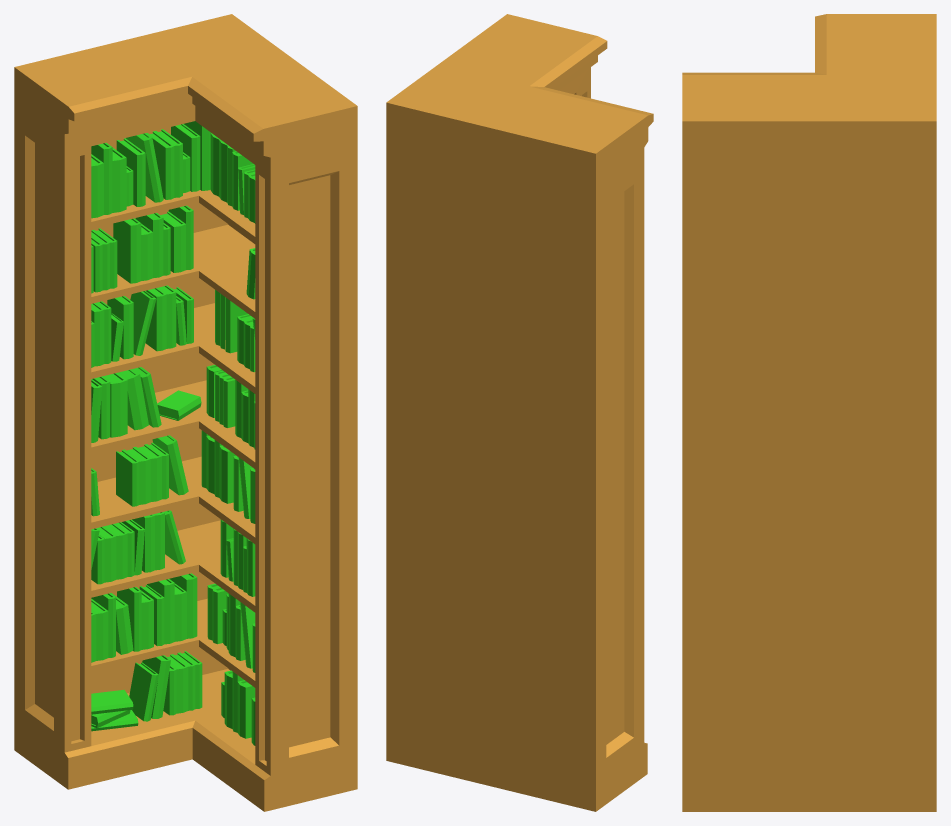
File: SM_Bookcase_Modular_Filled_Corner_Inner.fbx
The picture shows the model from 3 angles, left to right: view 1: azimuth 30°, elevation 25°; view 2: azimuth 150°, elevation 25°; view 3: azimuth 270°, elevation 25°; orthographic projection. The views are drawn at different scales.
Visible parts, largest first — view 1: bookcase-modular-filled-corner-inner; view 2: bookcase-modular-filled-corner-inner; view 3: bookcase-modular-filled-corner-inner.
Boxes of the visible parts, x1,y1,x2,y2 form: bookcase-modular-filled-corner-inner: (14, 14, 357, 811); bookcase-modular-filled-corner-inner: (386, 14, 653, 811); bookcase-modular-filled-corner-inner: (682, 14, 936, 811).
Bounding box in the file's own units: 1 × 3 × 1.
